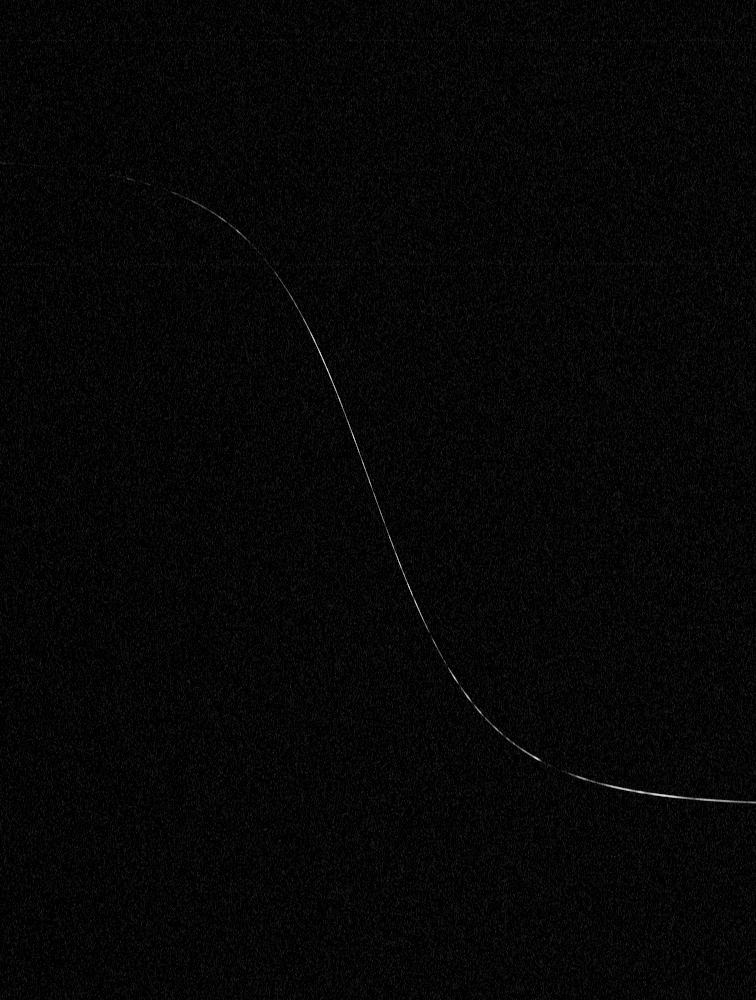signal: (0, 0, 755, 999)
